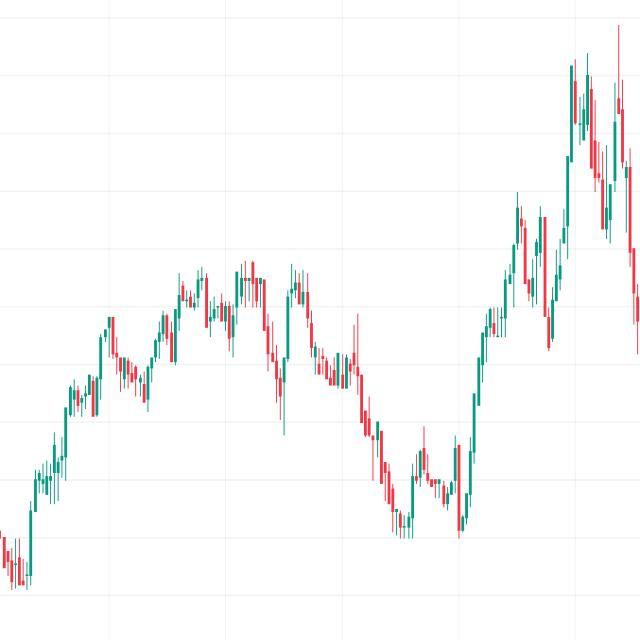Triple-Top: (165, 246, 328, 375)
